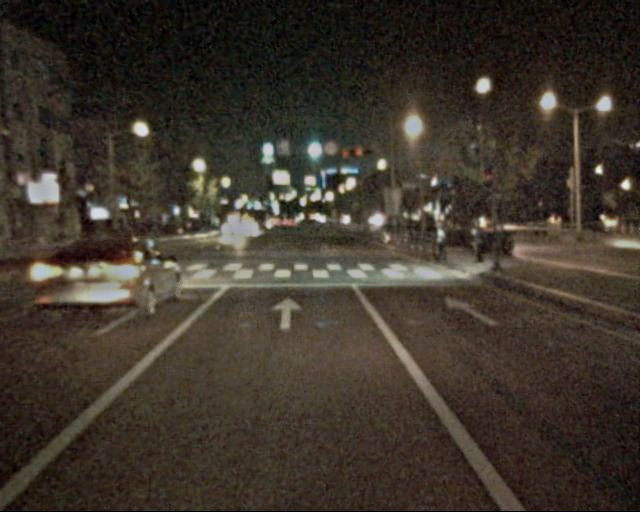person: (470, 218, 491, 273), (432, 218, 452, 266)
